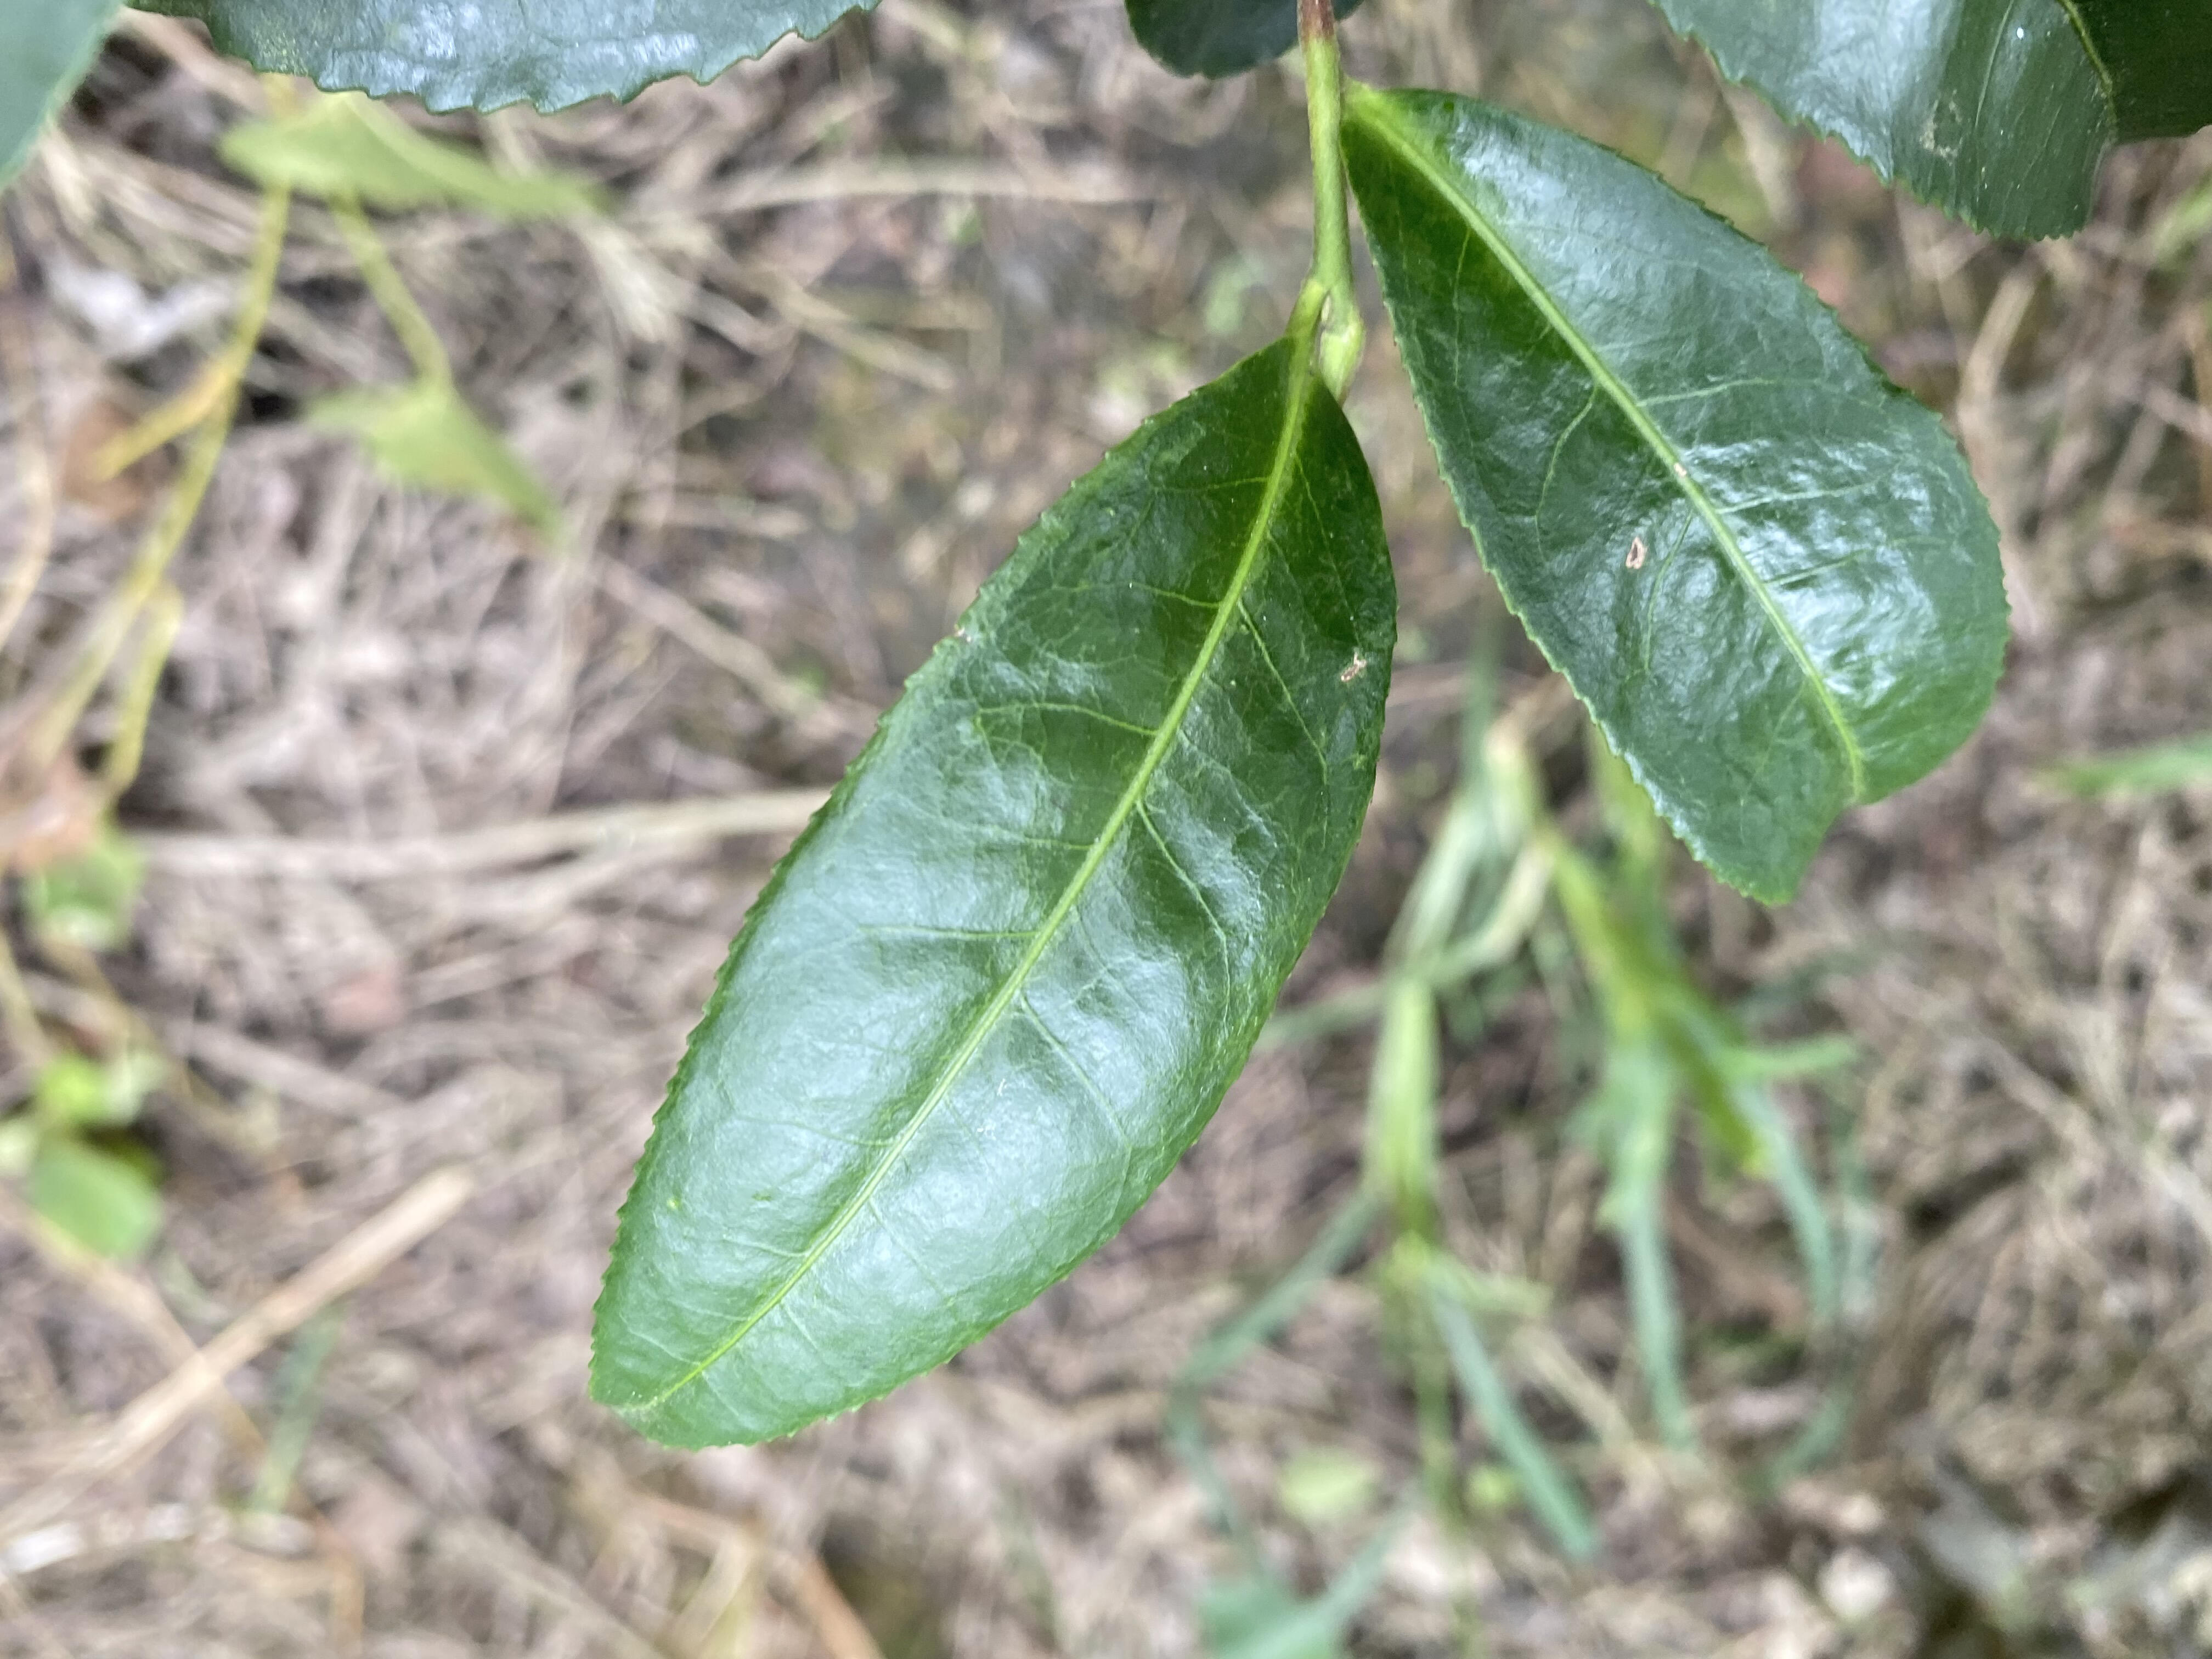tanju_low: (1343, 84, 2015, 908)
